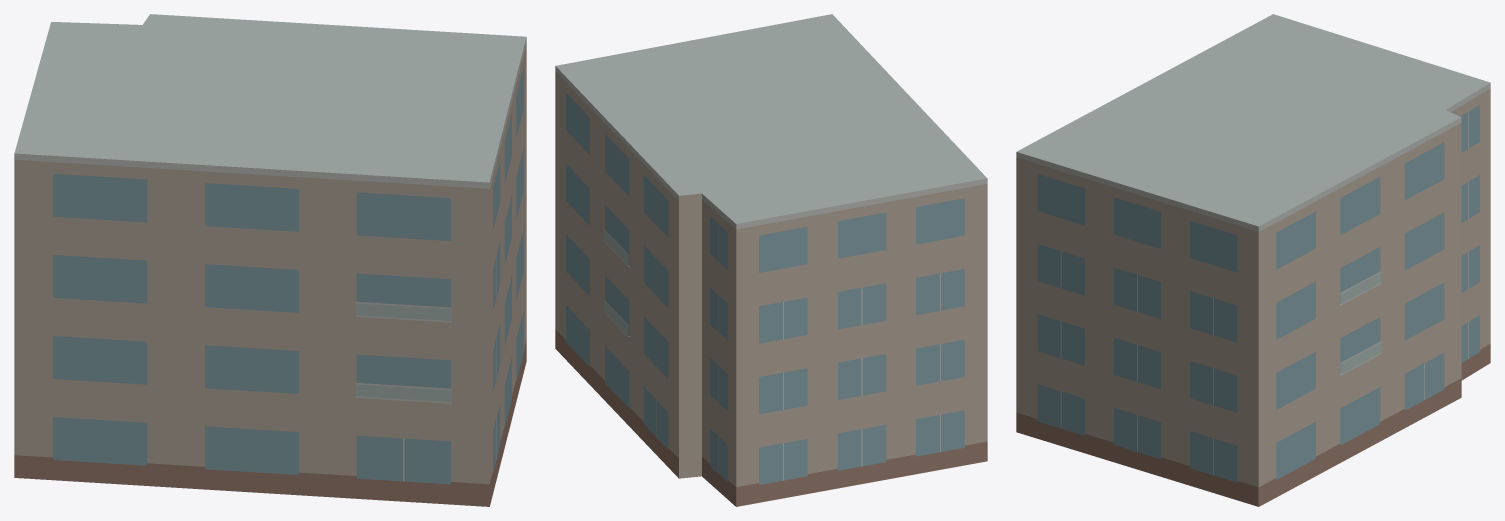
The model's file is survey-upis-32630270.glb.
3 renders of one model, left to right at view 1: azimuth 30°, elevation 25°; view 2: azimuth 150°, elevation 25°; view 3: azimuth 270°, elevation 25°, orthographic. The views are drawn at different scales.
Parts seen in each view (by area): view 1: survey-upis-32630270.tmp; view 2: survey-upis-32630270.tmp; view 3: survey-upis-32630270.tmp.
Boxes of the visible parts, <box> form: survey-upis-32630270.tmp: <box>14,14,526,506</box>; survey-upis-32630270.tmp: <box>555,14,987,506</box>; survey-upis-32630270.tmp: <box>1016,14,1490,506</box>.
Bounding box in the file's own units: 20.49 × 12.6 × 19.33.
